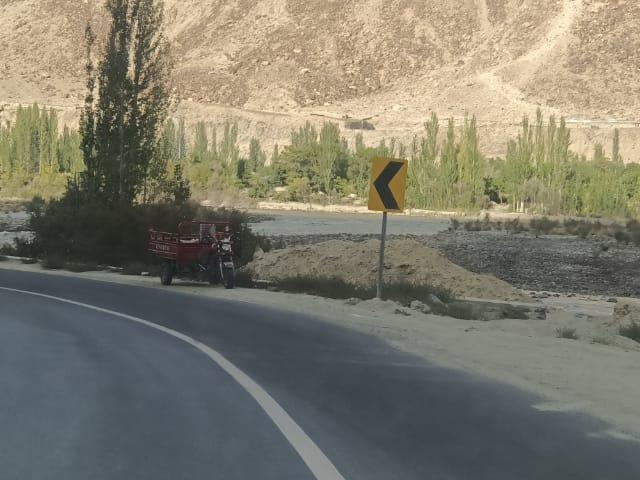left_turn: (0, 215, 172, 350), (365, 155, 410, 215)
